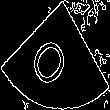O_NE: (31, 22, 79, 88)
